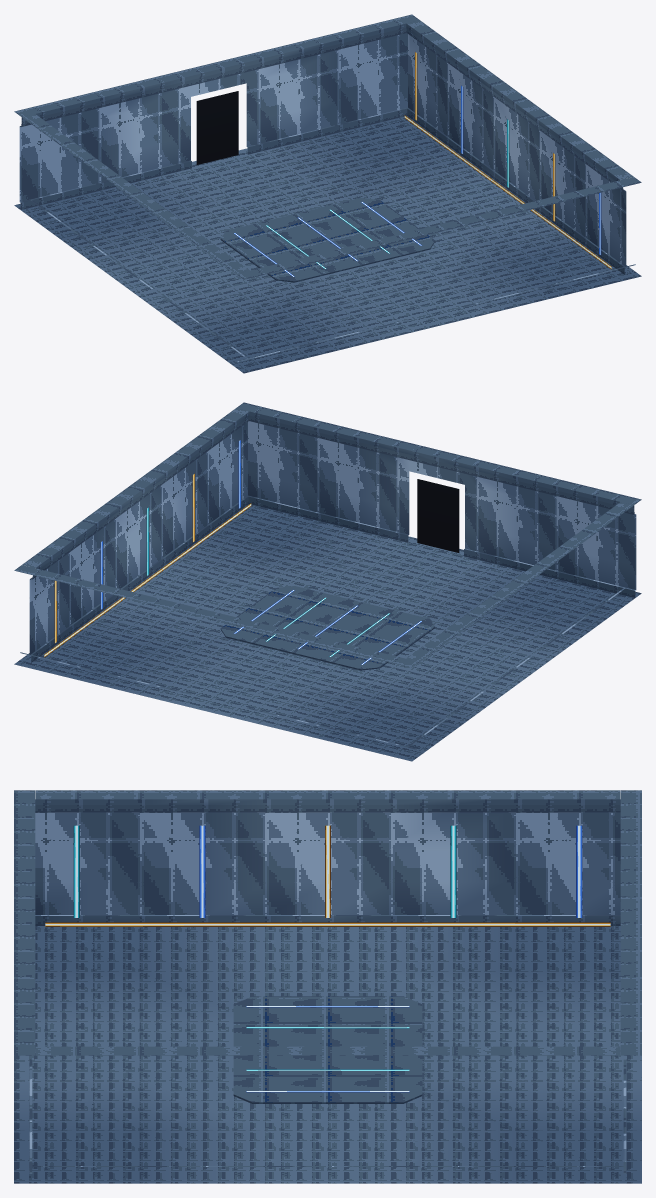
Rendered from cyroom.club__arena.glb.
3 renders of one model, top to bottom at view 1: azimuth 30°, elevation 25°; view 2: azimuth 150°, elevation 25°; view 3: azimuth 270°, elevation 25°, orthographic. The views are drawn at different scales.
Parts seen in each view (by area): view 1: kit_shell_floor, kit_shell_walls, kit_trim, kit_card_lights; view 2: kit_shell_floor, kit_shell_walls, kit_trim, kit_card_lights; view 3: kit_shell_floor, kit_shell_walls, kit_trim, kit_card_lights.
Part boxes in pixels (x1,y1,x2,y2): kit_shell_floor: (14,116,641,373); kit_shell_walls: (14,14,641,361); kit_trim: (220,198,435,282); kit_card_lights: (196,52,611,276); kit_shell_floor: (14,504,641,761); kit_shell_walls: (14,402,641,749); kit_trim: (220,586,435,670); kit_card_lights: (44,440,459,664); kit_shell_floor: (14,926,641,1183); kit_shell_walls: (14,790,641,1173); kit_trim: (233,996,422,1103); kit_card_lights: (45,825,610,1092).
Size of the model in its own units: 20 by 4.54 by 20.
Materials: 6 (6 with a texture image).
